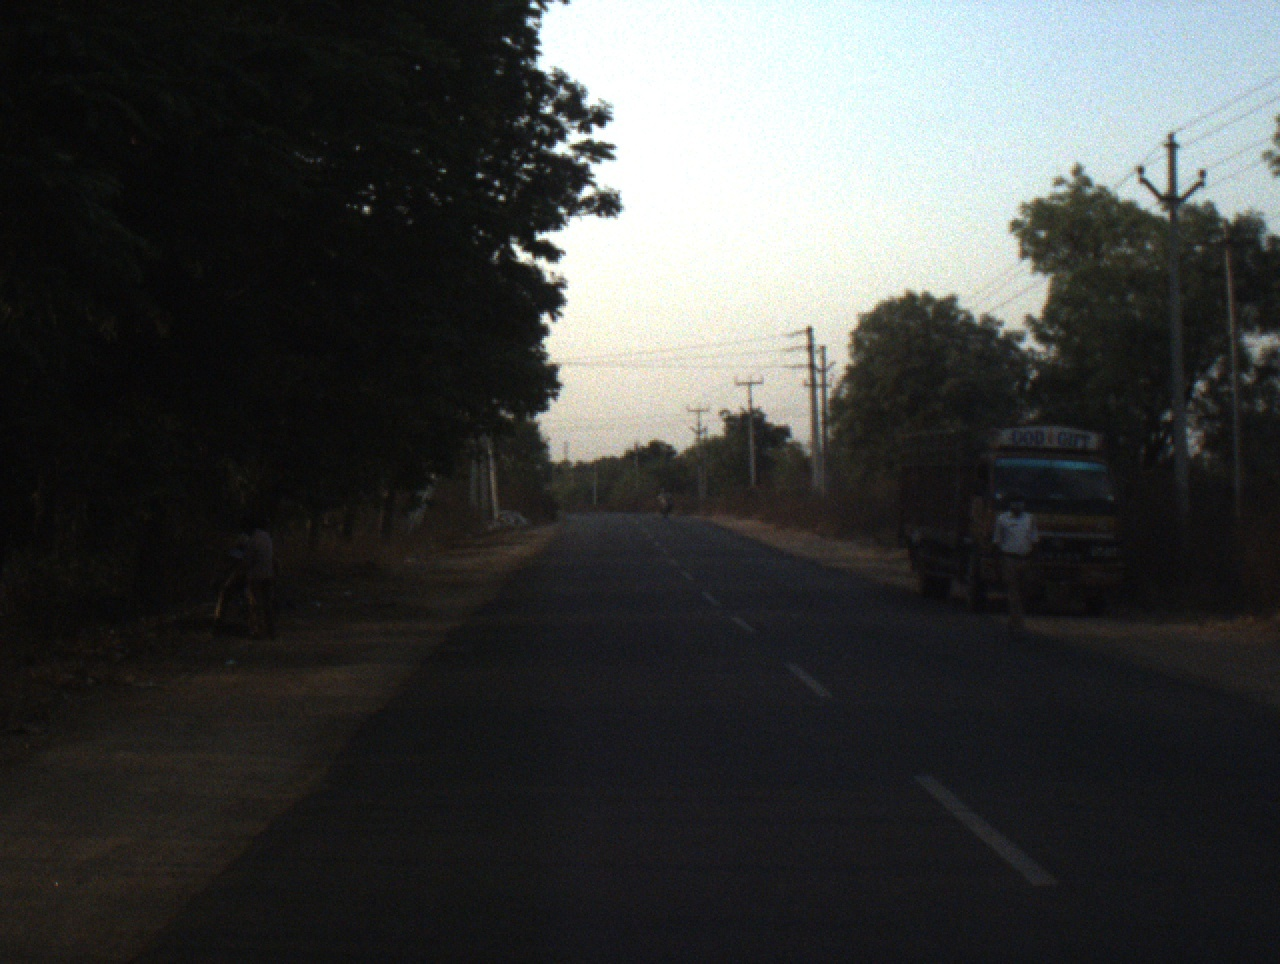motorcycle: (657, 498, 673, 516)
person: (994, 492, 1043, 639), (235, 516, 281, 638), (207, 522, 249, 633)
rider: (656, 486, 669, 510)
truck: (898, 418, 1123, 624)
